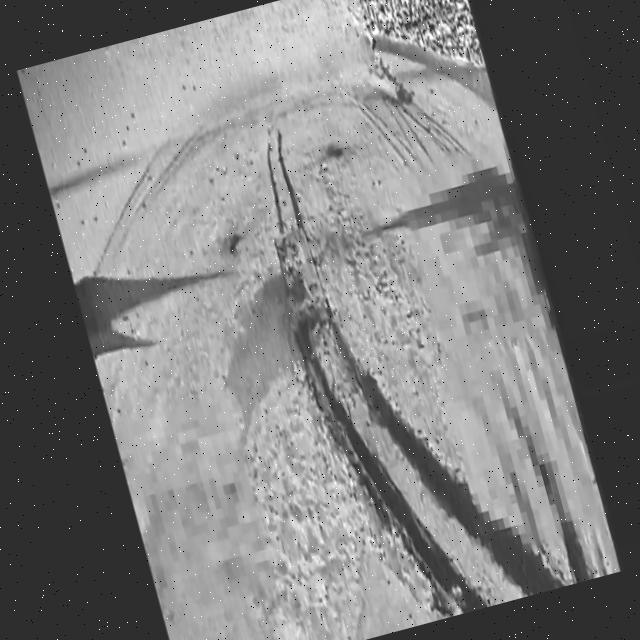MBT: (268, 222, 334, 335)
